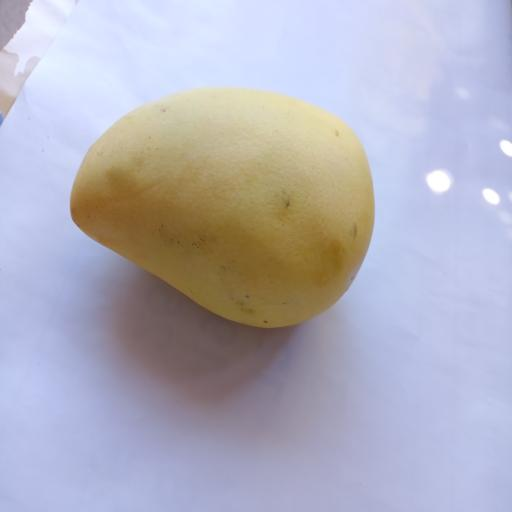mango-ripe: (59, 77, 391, 348)
